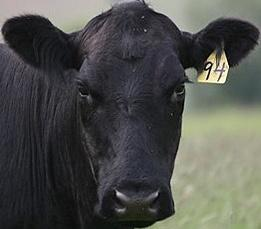muzzles: (97, 182, 178, 227)
